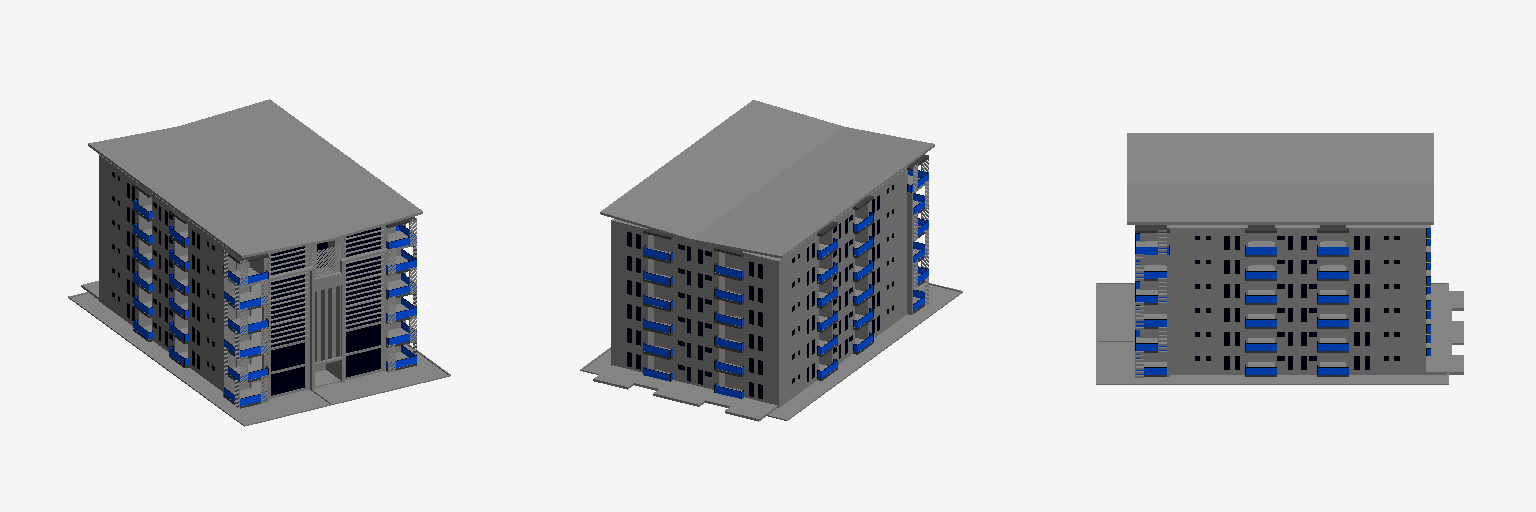
File: residencia.obj
The picture shows the model from 3 angles: view 1: azimuth 30°, elevation 25°; view 2: azimuth 150°, elevation 25°; view 3: azimuth 270°, elevation 25°; orthographic projection.
Parts seen in each view (by area): view 1: ROOF, WALL, BALCONY, WINDOW, LOUVER, LAND, DOOR, FLOOR; view 2: WALL, ROOF, BALCONY, WINDOW, LAND, FLOOR, DOOR, LOUVER; view 3: ROOF, WALL, BALCONY, LAND, WINDOW, DOOR, FLOOR, LOUVER.
Boxes of the visible parts, box(x1,y1,x2,y2) form: ROOF: box(88, 99, 422, 257); WALL: box(99, 154, 395, 403); BALCONY: box(133, 183, 416, 408); WINDOW: box(112, 172, 380, 395); LOUVER: box(224, 218, 416, 408); LAND: box(68, 292, 450, 426); DOOR: box(231, 227, 393, 392); FLOOR: box(81, 281, 261, 383); WALL: box(611, 167, 907, 407); ROOF: box(600, 100, 934, 260); BALCONY: box(643, 155, 928, 398); WINDOW: box(627, 185, 893, 398); LAND: box(580, 282, 962, 420); FLOOR: box(593, 365, 777, 421); DOOR: box(656, 236, 741, 390); LOUVER: box(913, 154, 928, 305); ROOF: box(1127, 133, 1433, 227); WALL: box(1098, 225, 1425, 374); BALCONY: box(1135, 225, 1430, 376); LAND: box(1096, 283, 1448, 384); WINDOW: box(1195, 236, 1399, 369); DOOR: box(1144, 233, 1343, 361); FLOOR: box(1426, 291, 1463, 374); LOUVER: box(1135, 230, 1166, 377).
Bounding box in the file's own units: 2743 × 1981 × 4214.